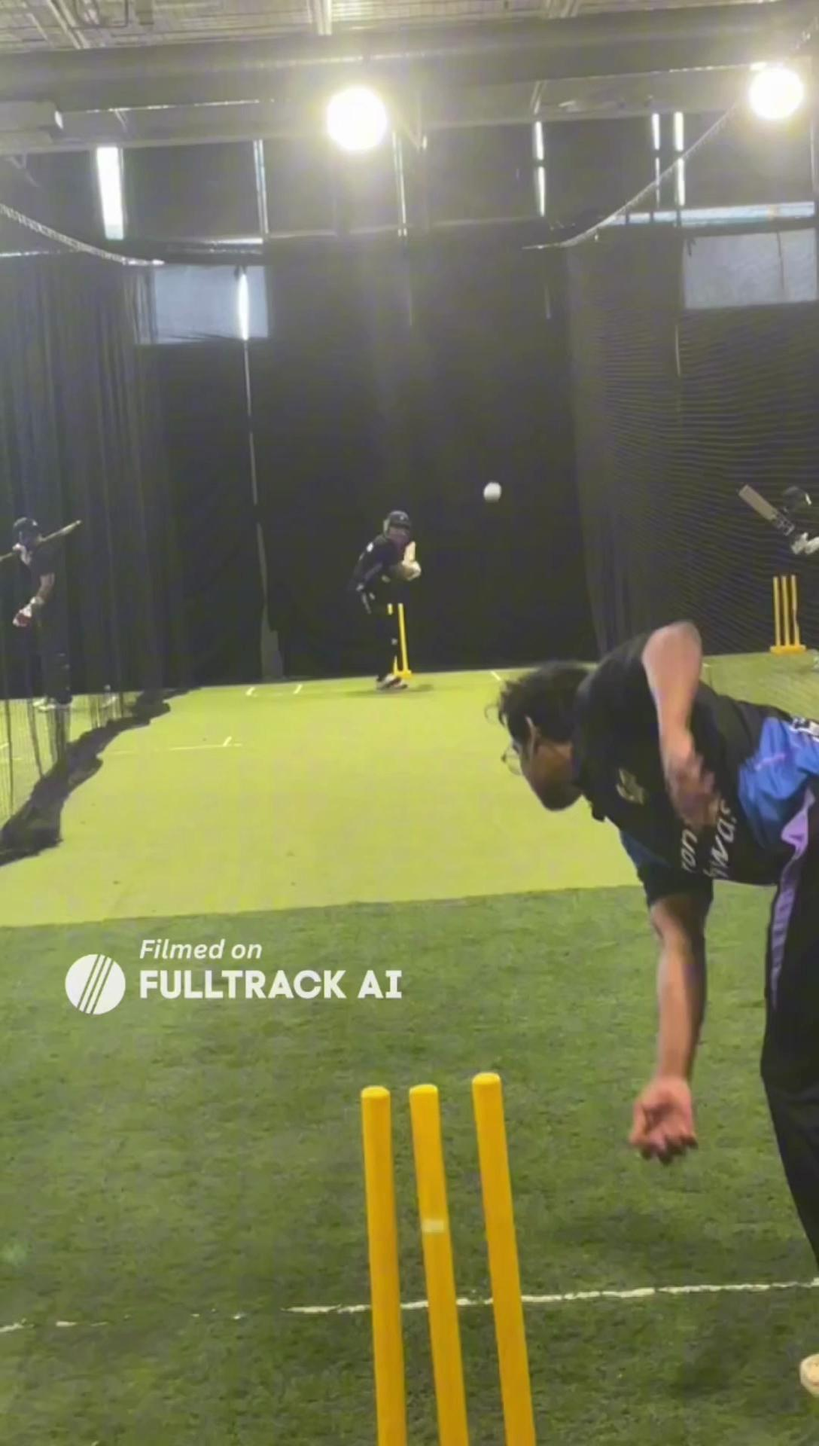ball: (482, 479, 504, 505)
